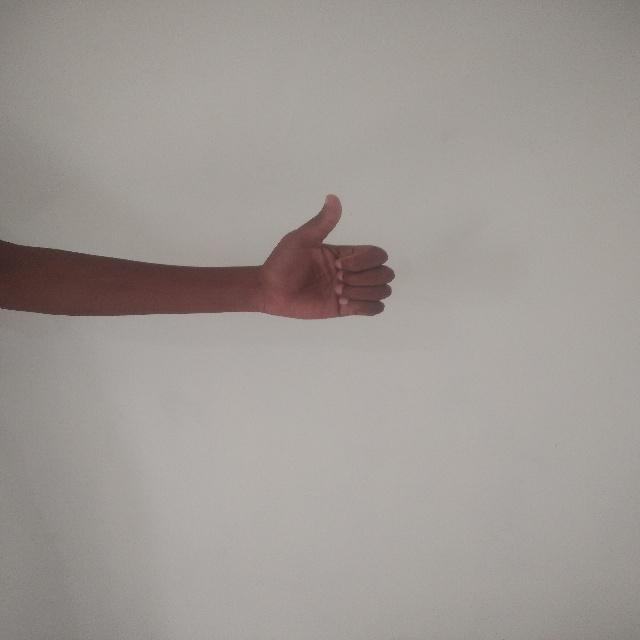Thumbs Up: (217, 183, 398, 341)
